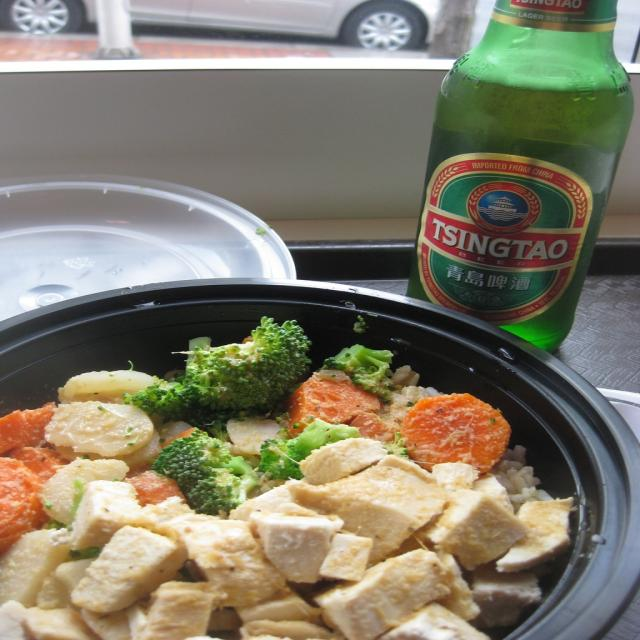tsingtao: (416, 153, 594, 325)
